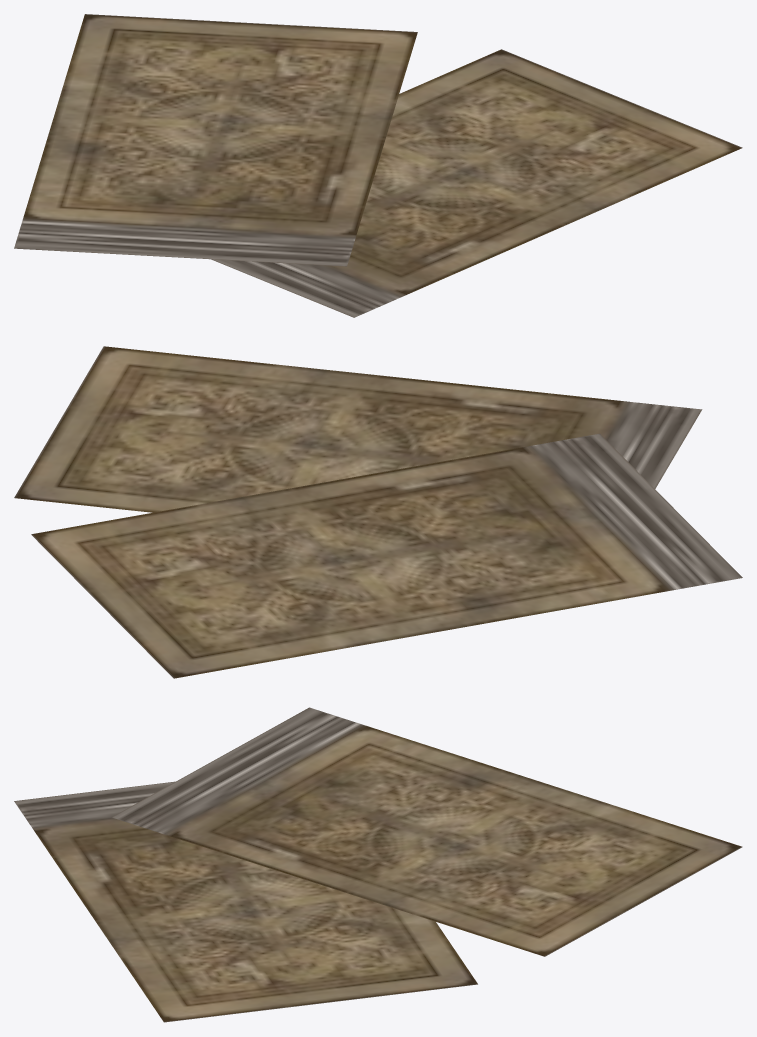
Rendered from cards_2_high.fbx.
3 renders of one model, top to bottom at view 1: azimuth 30°, elevation 25°; view 2: azimuth 150°, elevation 25°; view 3: azimuth 270°, elevation 25°, orthographic. The views are drawn at different scales.
Parts seen in each view (by area): view 1: cards_2_group; view 2: cards_2_group; view 3: cards_2_group.
Part boxes in pixels (x1,y1,x2,y2): cards_2_group: (14, 14, 742, 317); cards_2_group: (14, 346, 742, 678); cards_2_group: (14, 707, 742, 1022).
Size of the model in its own units: 56.26 by 0.3471 by 55.74.
1 material, 1 textured.
